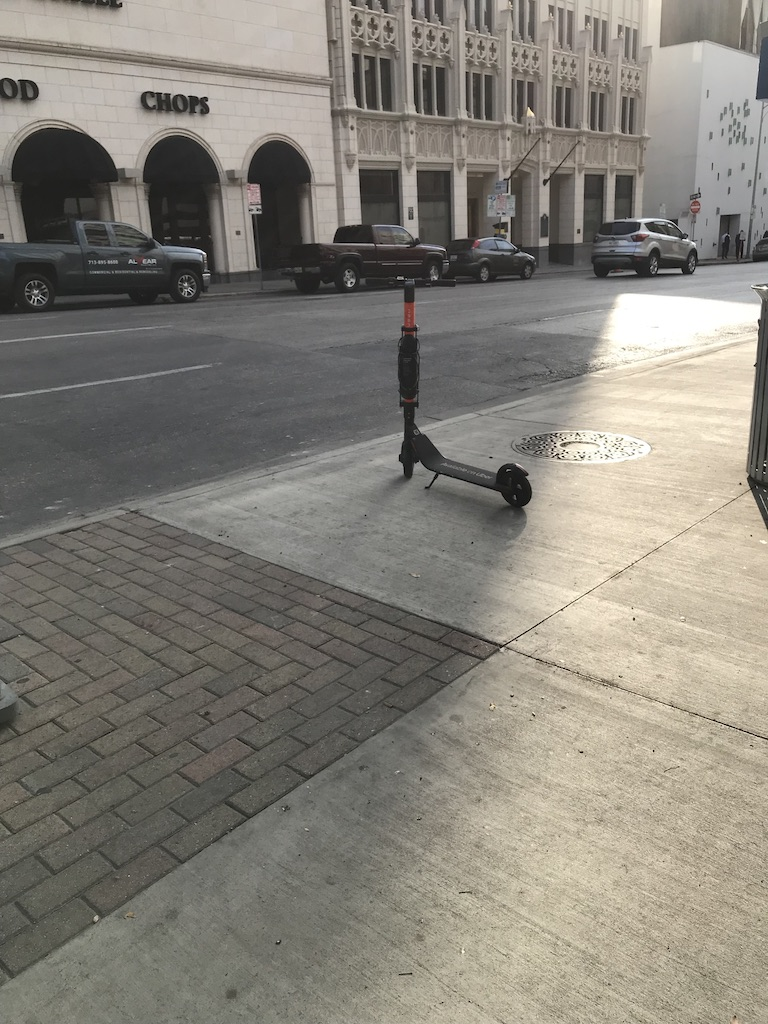scooter: (366, 277, 532, 507)
